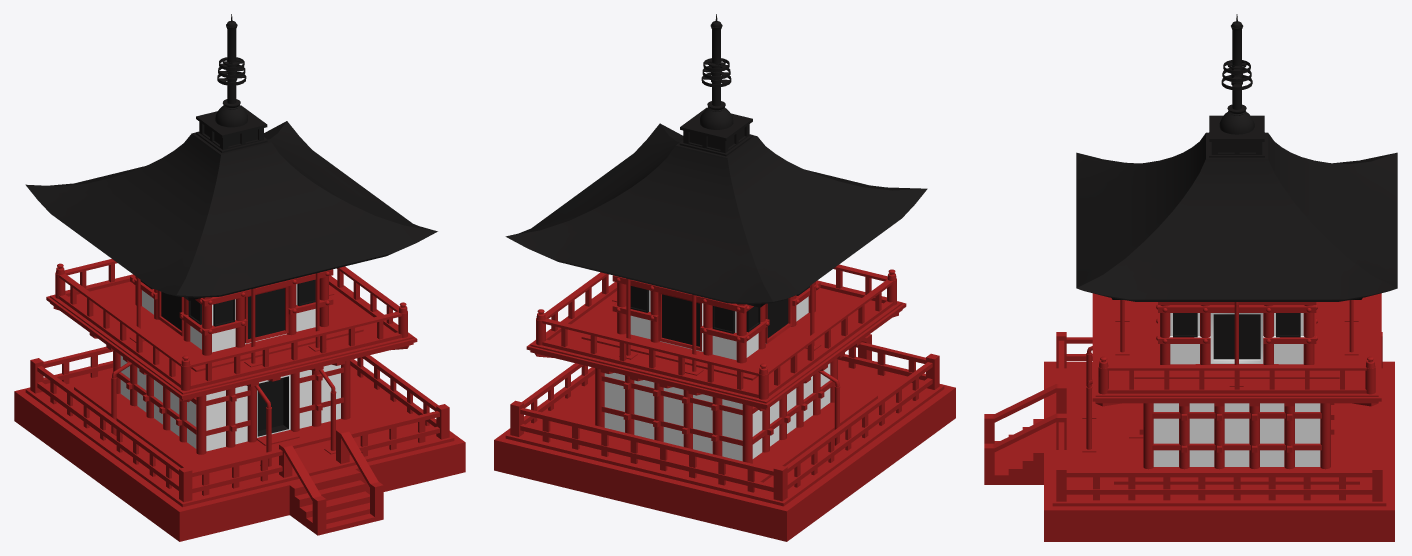
Rendered from Japon_Tapinak1.fbx.
3 views of the same model, side by side, from view 1: azimuth 30°, elevation 25°; view 2: azimuth 150°, elevation 25°; view 3: azimuth 270°, elevation 25° (orthographic). The views are drawn at different scales.
Parts seen in each view (by area): view 1: Japanese_Shrine; view 2: Japanese_Shrine; view 3: Japanese_Shrine.
Part boxes in pixels (box(x1,y1,x2,y2)): Japanese_Shrine: box(14, 14, 465, 541); Japanese_Shrine: box(494, 14, 955, 541); Japanese_Shrine: box(984, 14, 1397, 541).
Size of the model in its own units: 787 by 1122 by 927.
